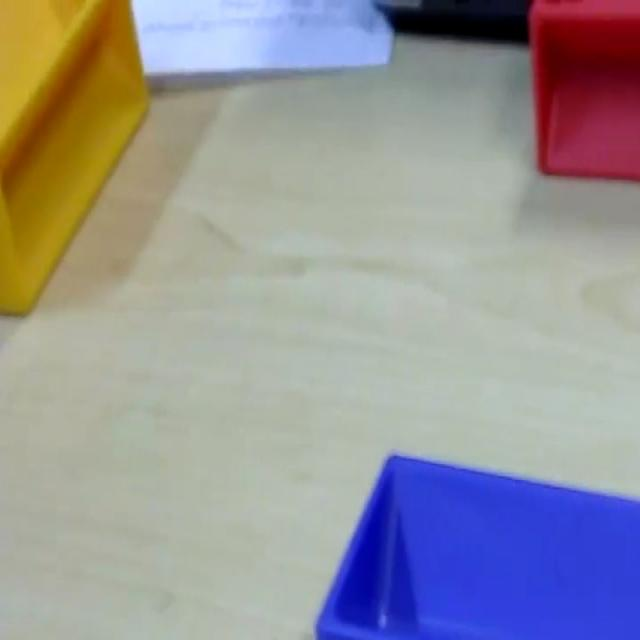blue_block: (313, 448, 638, 636)
red_block: (527, 0, 638, 181)
yellow_block: (1, 0, 149, 316)
